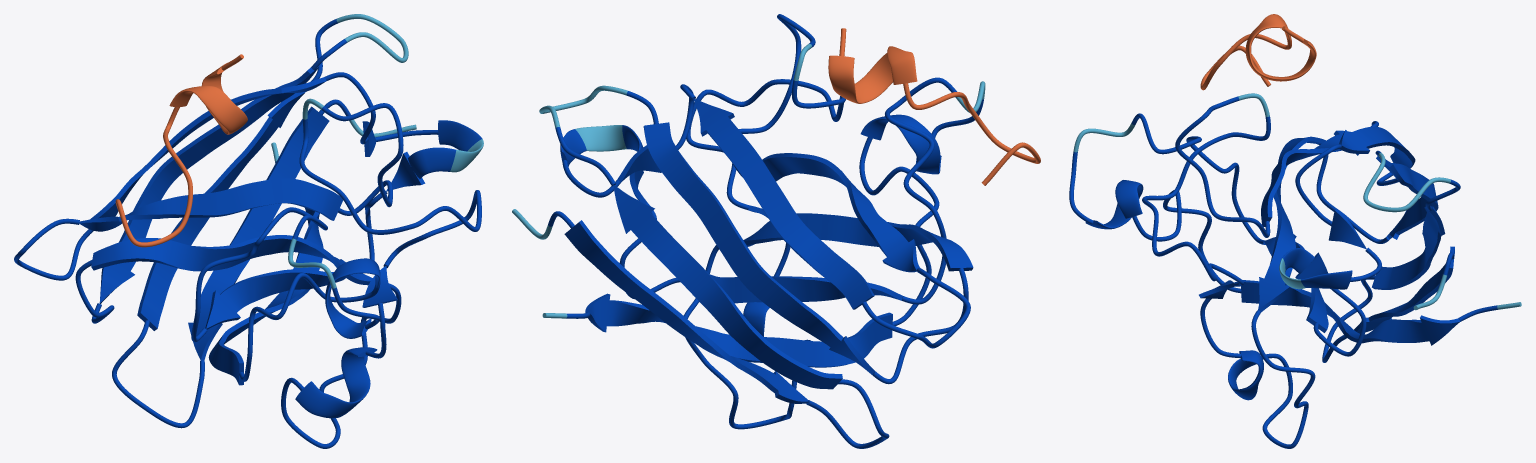
3 views of the same model, side by side, from view 1: azimuth 30°, elevation 25°; view 2: azimuth 150°, elevation 25°; view 3: azimuth 270°, elevation 25° (orthographic). The views are drawn at different scales.
Size of the model in its own units: 39.51 by 36.55 by 39.6.
